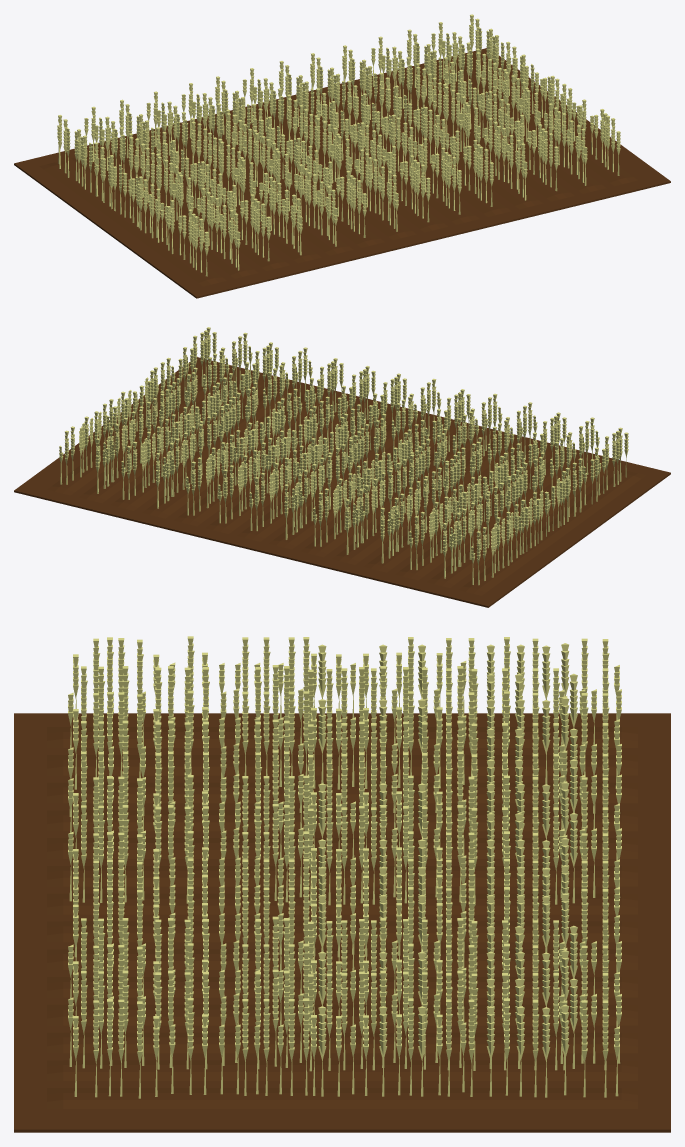
The model's file is WheatField.fbx.
3 views of the same model, one above another, from view 1: azimuth 30°, elevation 25°; view 2: azimuth 150°, elevation 25°; view 3: azimuth 270°, elevation 25° (orthographic). The views are drawn at different scales.
Parts seen in each view (by area): view 1: pCone2304; view 2: pCone2304; view 3: pCone2304.
Boxes of the visible parts, x1,y1,x2,y2 form: pCone2304: (14,14,670,298); pCone2304: (14,327,670,607); pCone2304: (14,636,670,1132).
Bounding box in the file's own units: 60 × 6.78 × 40.
